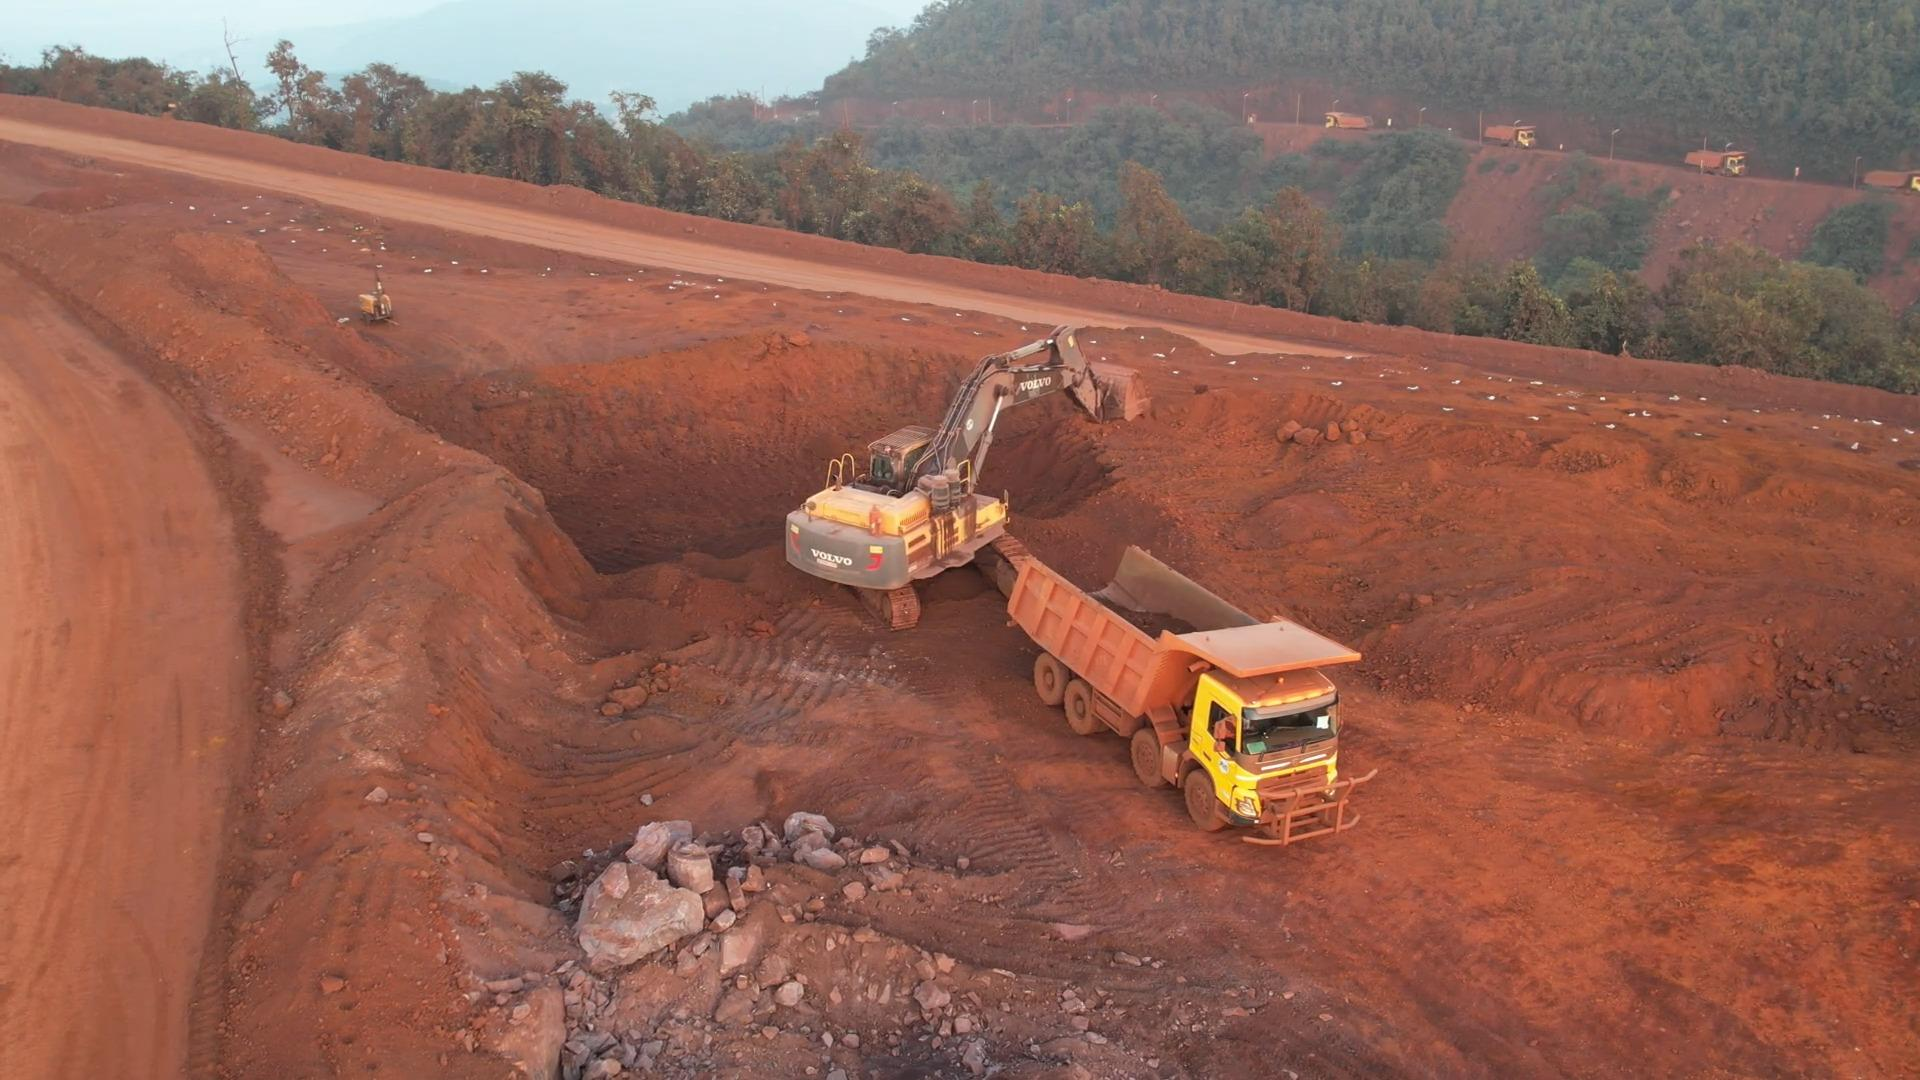excavator: (779, 344, 1133, 584)
